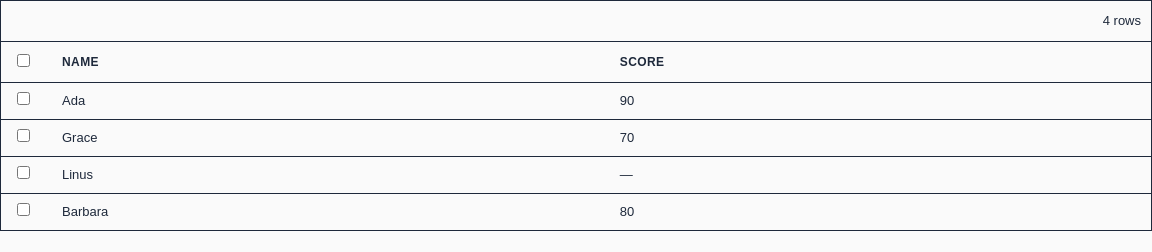
Test: DataTable › selects rows and drives bulk actions
This screenshot has width=1152, height=252.
What coordinates should you click on to do the following:
click the checkbox named "Select Ada"
I would click on:
 (24, 98)
Its box is [17,92,30,105].
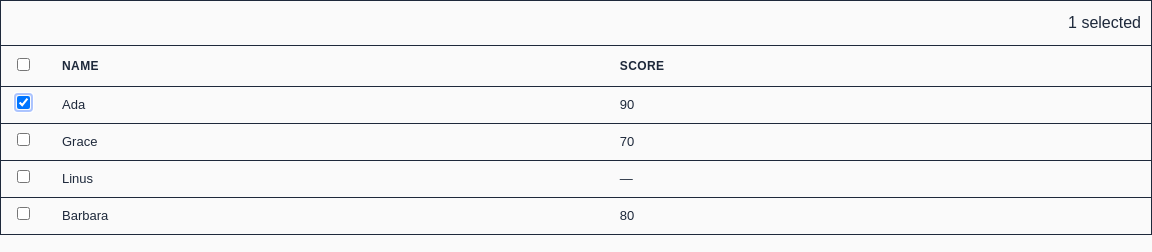
Expected: the text "1 selected" is shown, [1068,11,1141,35]
What coordinates should you click on to do the following:
click the checkbox named "select all rows"
I would click on:
 (24, 64)
Its box is [17,58,30,71].
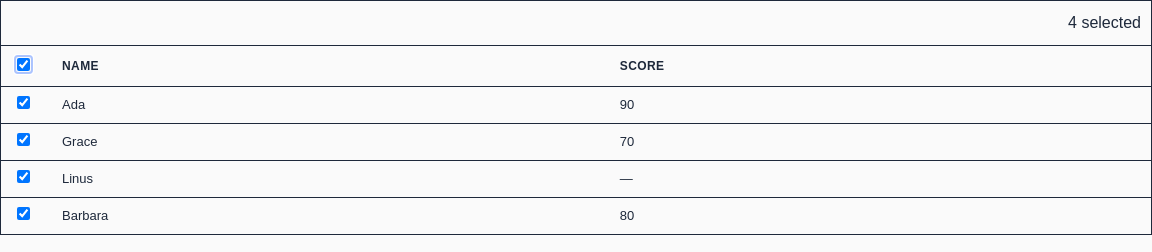
Expected: the text "4 selected" is shown, [1068,11,1141,35]
